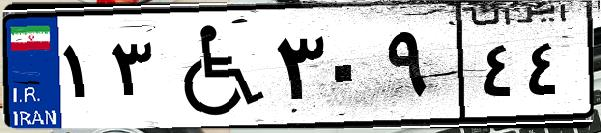0: (330, 28, 385, 110)
1: (57, 26, 110, 100)
3: (270, 28, 330, 110), (110, 28, 158, 98)
4: (475, 38, 525, 113), (525, 38, 570, 115)
9: (385, 28, 445, 110)
ژ (معلولین و جانبازان): (158, 12, 270, 120)
